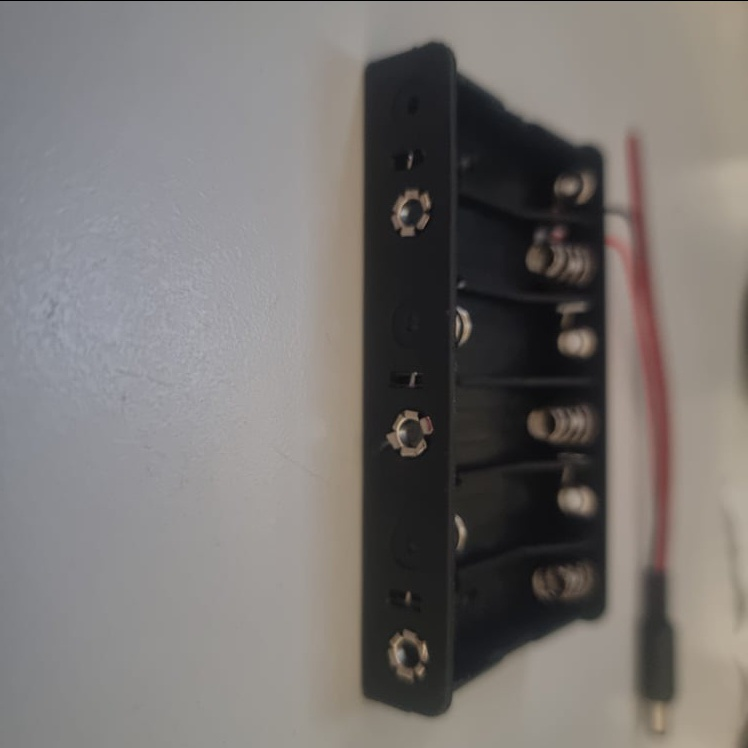BATTERY BOX: (358, 40, 618, 710)
